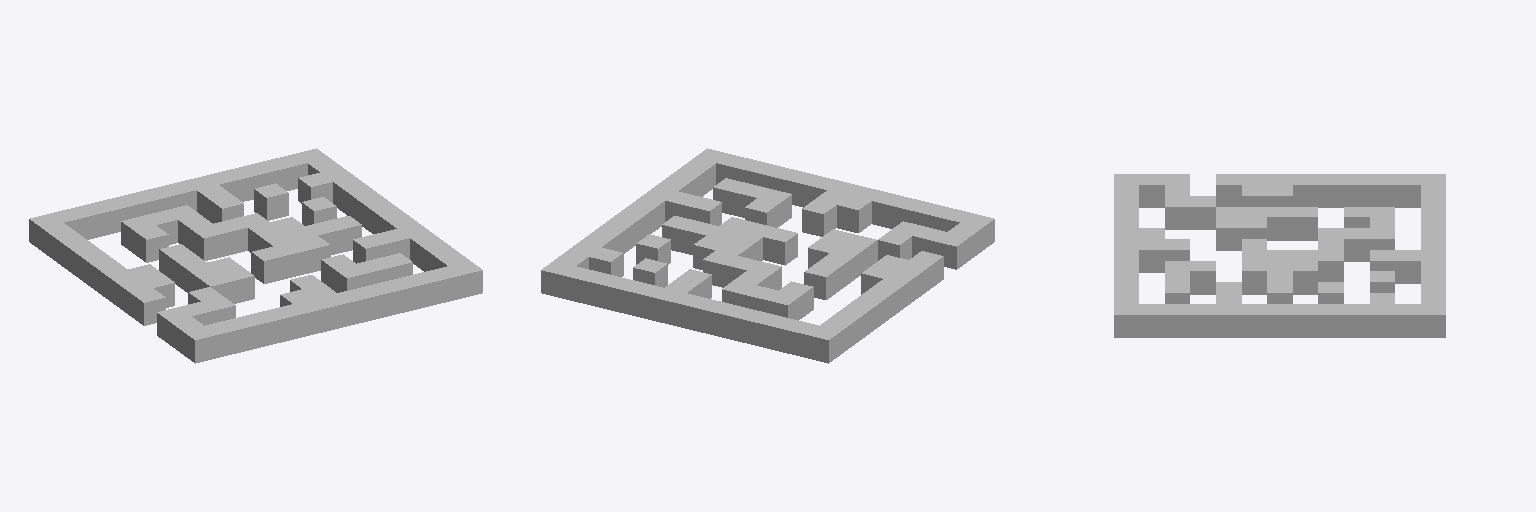
Rendered from map7.obj.
The picture shows the model from 3 angles: view 1: azimuth 30°, elevation 25°; view 2: azimuth 150°, elevation 25°; view 3: azimuth 270°, elevation 25°; orthographic projection.
Parts seen in each view (by area): view 1: mergedBlocks; view 2: mergedBlocks; view 3: mergedBlocks.
Boxes of the visible parts, box(x1,y1,x2,y2) form: mergedBlocks: box(29, 148, 482, 363); mergedBlocks: box(541, 148, 994, 363); mergedBlocks: box(1114, 174, 1445, 337).
Size of the model in its own units: 13 by 1 by 13.